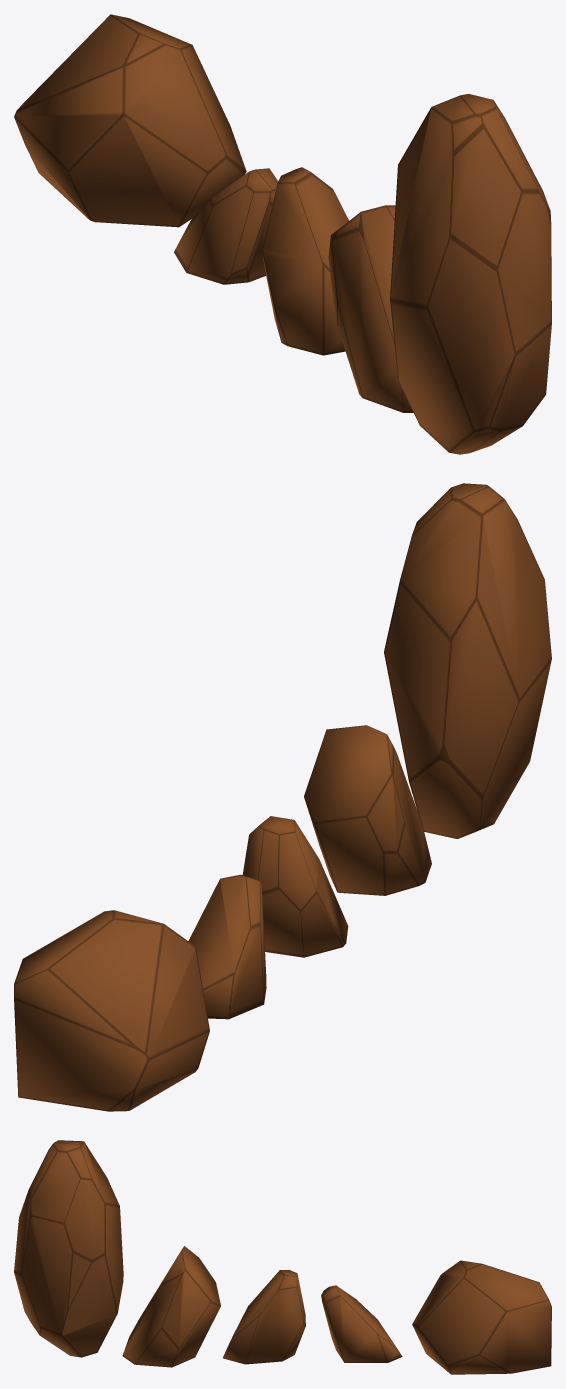
Rendered from cartoon_stones__rocks.fbx.
3 views of the same model, one above another, from view 1: azimuth 30°, elevation 25°; view 2: azimuth 150°, elevation 25°; view 3: azimuth 270°, elevation 25° (orthographic). The views are drawn at different scales.
Parts seen in each view (by area): view 1: node_0d9269c7_4c95_4a15_9247_f9f00b3d9aeb_mesh0, node_376e3c4d_9625_4e33_afdd_f4ab708022ad_mesh0, node_6788dd03_1ea2_403f_ba13_8dc758674cf7_mesh0, node_8796b63a_a55f_4294_986d_d54cc63c1d48_mesh0, node_b1842452_5504_4330_9af7_6b502a917872_mesh0; view 2: node_0d9269c7_4c95_4a15_9247_f9f00b3d9aeb_mesh0, node_376e3c4d_9625_4e33_afdd_f4ab708022ad_mesh0, node_8796b63a_a55f_4294_986d_d54cc63c1d48_mesh0, node_6788dd03_1ea2_403f_ba13_8dc758674cf7_mesh0, node_b1842452_5504_4330_9af7_6b502a917872_mesh0; view 3: node_0d9269c7_4c95_4a15_9247_f9f00b3d9aeb_mesh0, node_376e3c4d_9625_4e33_afdd_f4ab708022ad_mesh0, node_8796b63a_a55f_4294_986d_d54cc63c1d48_mesh0, node_6788dd03_1ea2_403f_ba13_8dc758674cf7_mesh0, node_b1842452_5504_4330_9af7_6b502a917872_mesh0.
Boxes of the visible parts, box(x1,y1,x2,y2) form: node_0d9269c7_4c95_4a15_9247_f9f00b3d9aeb_mesh0: box(390, 94, 551, 454); node_376e3c4d_9625_4e33_afdd_f4ab708022ad_mesh0: box(14, 14, 246, 227); node_6788dd03_1ea2_403f_ba13_8dc758674cf7_mesh0: box(262, 167, 348, 355); node_8796b63a_a55f_4294_986d_d54cc63c1d48_mesh0: box(328, 205, 413, 412); node_b1842452_5504_4330_9af7_6b502a917872_mesh0: box(174, 168, 278, 284); node_0d9269c7_4c95_4a15_9247_f9f00b3d9aeb_mesh0: box(384, 483, 551, 838); node_376e3c4d_9625_4e33_afdd_f4ab708022ad_mesh0: box(14, 910, 209, 1111); node_8796b63a_a55f_4294_986d_d54cc63c1d48_mesh0: box(304, 725, 431, 895); node_6788dd03_1ea2_403f_ba13_8dc758674cf7_mesh0: box(242, 816, 348, 957); node_b1842452_5504_4330_9af7_6b502a917872_mesh0: box(188, 874, 266, 1019); node_0d9269c7_4c95_4a15_9247_f9f00b3d9aeb_mesh0: box(14, 1140, 123, 1357); node_376e3c4d_9625_4e33_afdd_f4ab708022ad_mesh0: box(412, 1260, 551, 1374); node_8796b63a_a55f_4294_986d_d54cc63c1d48_mesh0: box(122, 1246, 220, 1367); node_6788dd03_1ea2_403f_ba13_8dc758674cf7_mesh0: box(223, 1270, 305, 1364); node_b1842452_5504_4330_9af7_6b502a917872_mesh0: box(321, 1285, 402, 1362).
Bounding box in the file's own units: 3.01 × 5.74 × 13.55.
Materials: 5 (5 with a texture image).
